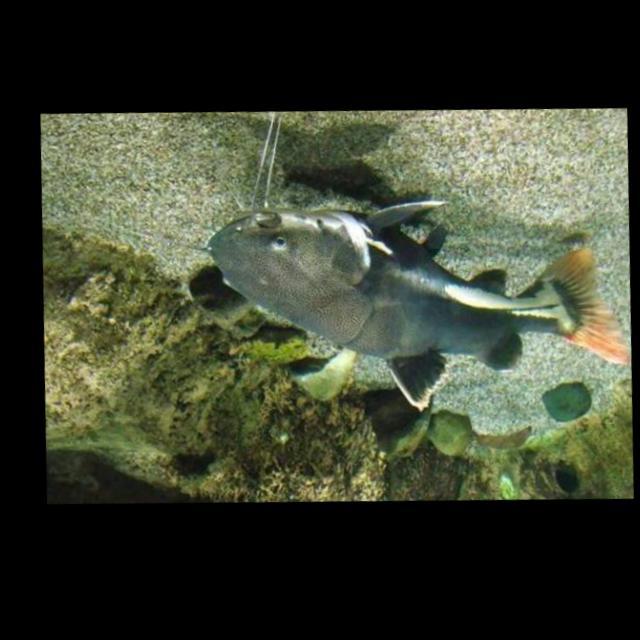fish: (194, 176, 635, 432)
